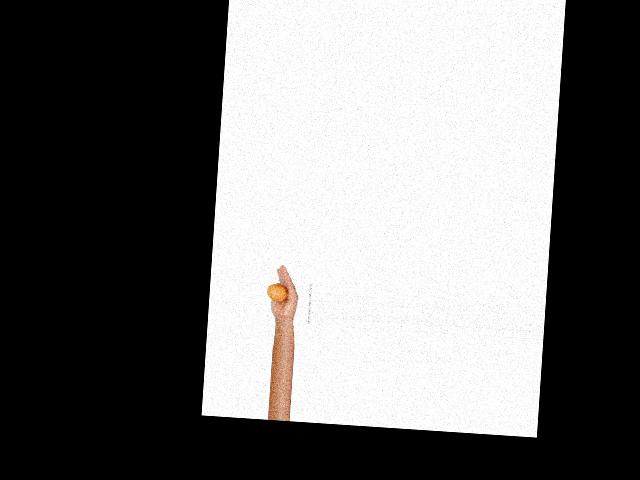egg: (266, 283, 289, 302)
